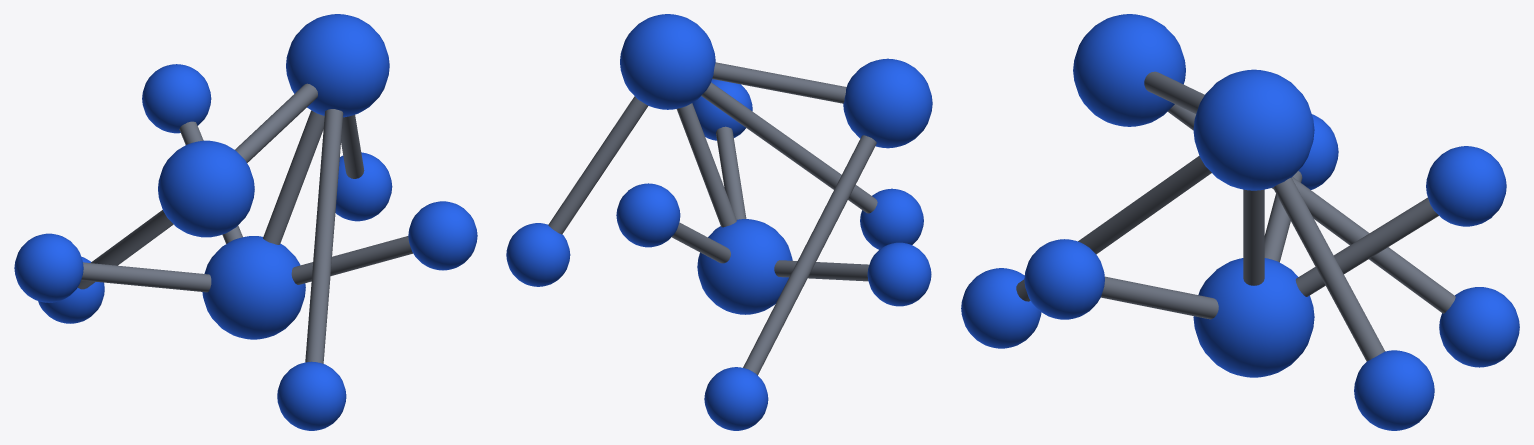
The picture shows the model from 3 angles, left to right: view 1: azimuth 30°, elevation 25°; view 2: azimuth 150°, elevation 25°; view 3: azimuth 270°, elevation 25°; orthographic projection. The views are drawn at different scales.
Visible parts, largest first — view 1: C1, C2, O1, object 15, H5, H3, H2, H1, H4, object 10, object 13, object 12 (+5 smaller); view 2: C2, C1, O1, object 17, object 15, H1, H3, H6, H4, H5, object 14, object 16 (+5 smaller); view 3: C2, C1, O1, H2, H1, H4, H6, H5, object 14, object 17, object 15, object 11 (+5 smaller).
Boxes of the visible parts, left/top/right/bottom form: C1: left=202, top=236, right=305, bottom=339; C2: left=286, top=14, right=389, bottom=117; O1: left=158, top=140, right=254, bottom=237; object 15: left=305, top=109, right=343, bottom=363; H5: left=277, top=361, right=346, bottom=430; H3: left=14, top=233, right=83, bottom=302; H2: left=408, top=201, right=477, bottom=270; H1: left=142, top=64, right=211, bottom=133; H4: left=335, top=152, right=392, bottom=221; object 10: left=263, top=110, right=324, bottom=244; object 13: left=81, top=262, right=211, bottom=292; object 12: left=291, top=236, right=412, bottom=284; C2: left=620, top=14, right=715, bottom=109; C1: left=697, top=219, right=792, bottom=314; O1: left=843, top=58, right=932, bottom=148; object 17: left=743, top=135, right=876, bottom=375; object 15: left=701, top=82, right=877, bottom=213; H1: left=616, top=183, right=680, bottom=247; H3: left=867, top=242, right=931, bottom=306; H6: left=704, top=367, right=768, bottom=430; H4: left=506, top=223, right=570, bottom=286; H5: left=860, top=188, right=923, bottom=249; object 14: left=548, top=96, right=648, bottom=234; object 16: left=712, top=62, right=846, bottom=103; C2: left=1193, top=69, right=1314, bottom=190; C1: left=1193, top=258, right=1314, bottom=377; O1: left=1073, top=14, right=1185, bottom=126; H2: left=1024, top=239, right=1104, bottom=319; H1: left=1426, top=146, right=1506, bottom=226; H4: left=1354, top=350, right=1434, bottom=430; H6: left=1439, top=287, right=1519, bottom=367; H5: left=961, top=268, right=1041, bottom=348; object 14: left=1273, top=177, right=1385, bottom=361; object 17: left=1167, top=104, right=1455, bottom=313; object 15: left=1016, top=156, right=1211, bottom=301; object 11: left=1295, top=197, right=1438, bottom=296.
Bounding box in the file's own units: 0.4099 × 0.3162 × 0.4152.
